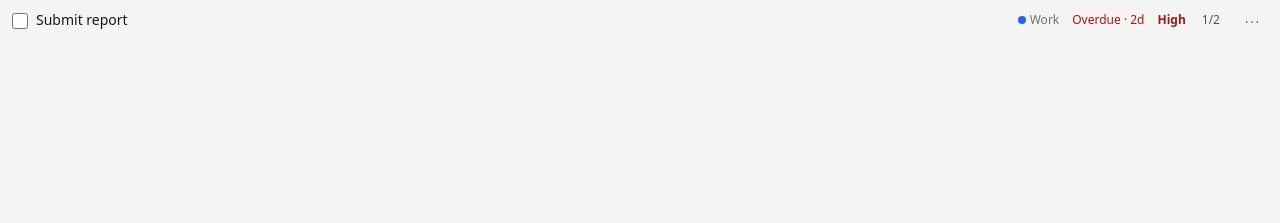
Test: TodoTaskItem › disables manual moves when the sort is not Manual
What coordinates should you click on to do the following:
click the button named "More actions for \"Submit report\""
I would click on:
 (1252, 22)
Its box is [1236,6,1268,38].
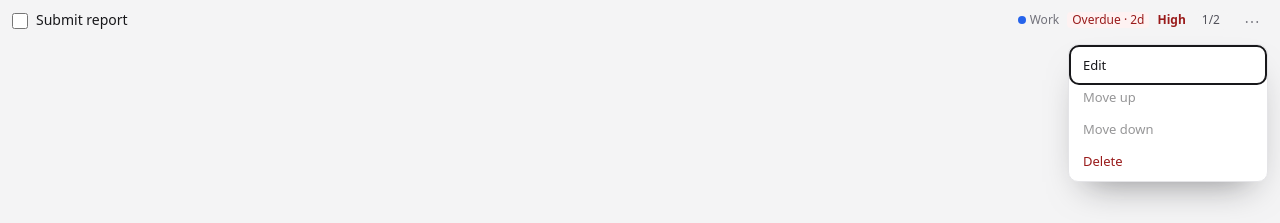
Expected: the menu item "Move up" is disabled, [1073,81,1263,113]
Expected: the menu item "Move down" is disabled, [1073,113,1263,145]
